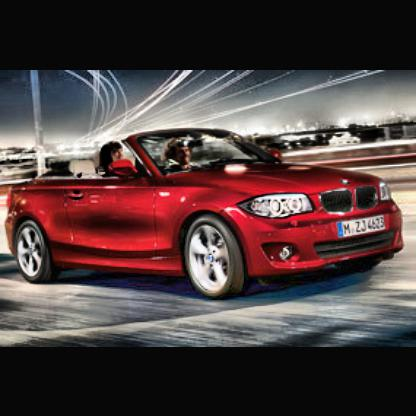BMW 1 Series Convertible 2012: (9, 124, 410, 299)
